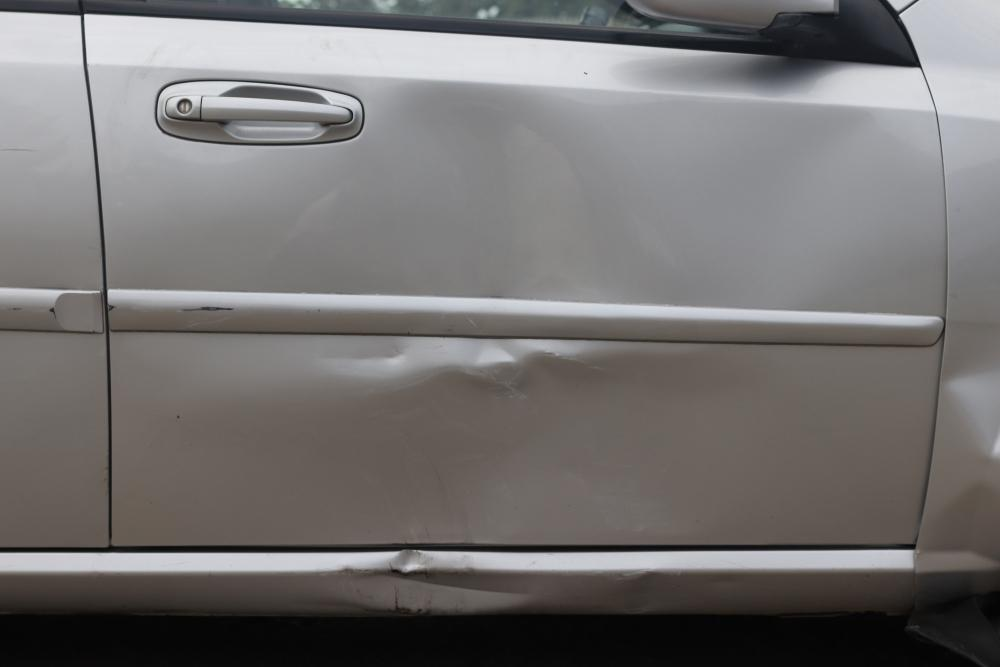dent: (277, 82, 663, 535), (340, 546, 533, 617), (946, 339, 1000, 460)
